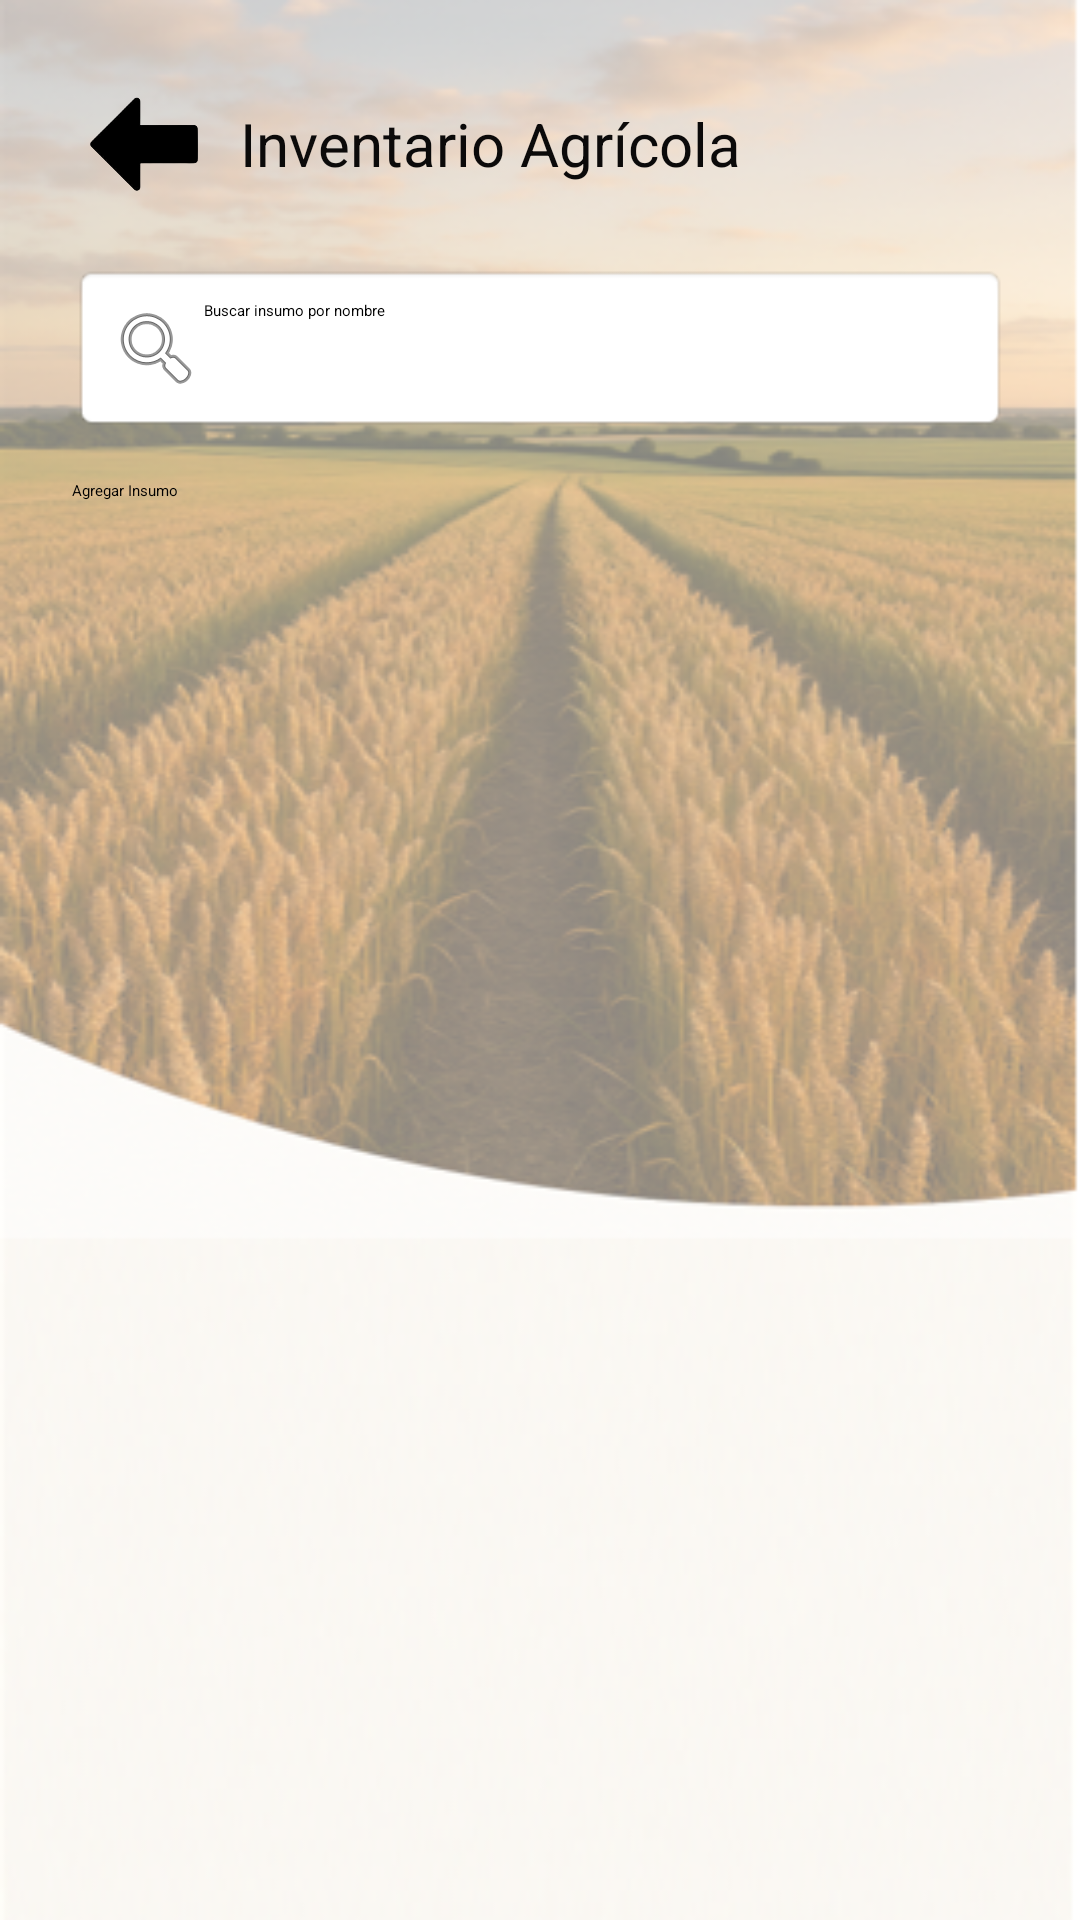

Icon bounding boxes for this 1080px x 1920px phone screenshot, format (x1=x1, y1=y1, x2=x2, y2=y2):
Volver: (x1=72, y1=72, x2=216, y2=216)
